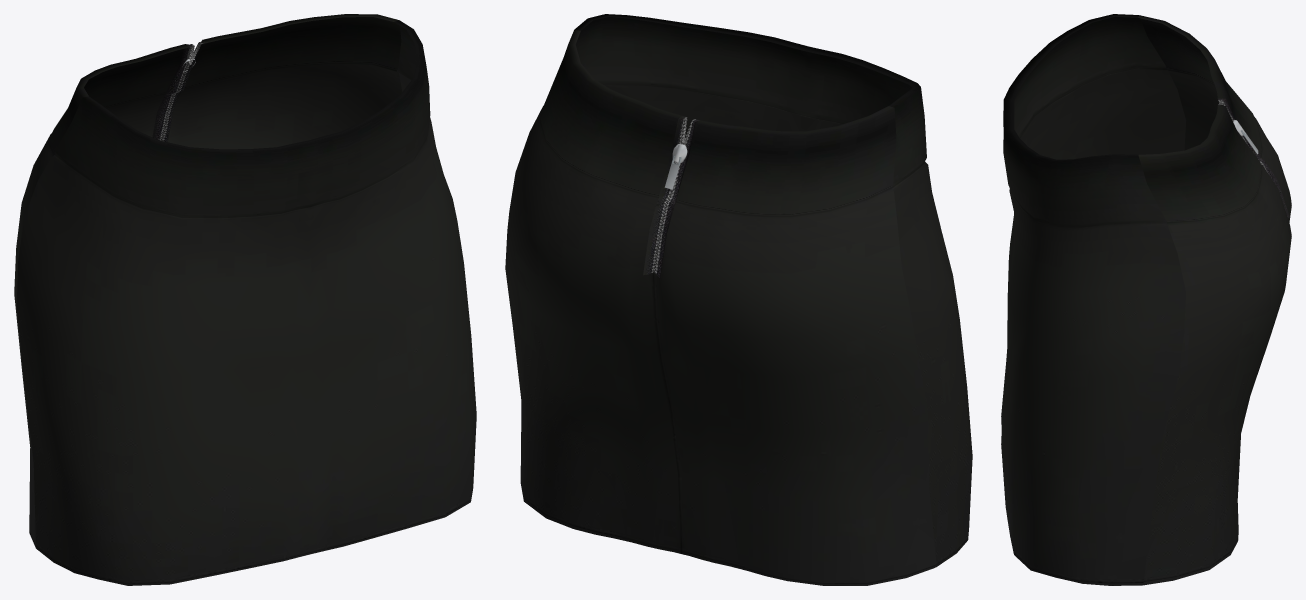
The model's file is punkduck-black-mini-skirt.glb.
3 renders of one model, left to right at view 1: azimuth 30°, elevation 25°; view 2: azimuth 150°, elevation 25°; view 3: azimuth 270°, elevation 25°, orthographic. The views are drawn at different scales.
Visible parts, largest first — view 1: black mini skirt; view 2: black mini skirt; view 3: black mini skirt.
Part boxes in pixels (bbox=[...]): black mini skirt: bbox=[14, 14, 476, 585]; black mini skirt: bbox=[505, 14, 972, 585]; black mini skirt: bbox=[1001, 14, 1291, 585].
Bounding box in the file's own units: 38.77 × 39.68 × 25.47.
1 material, 1 textured.
